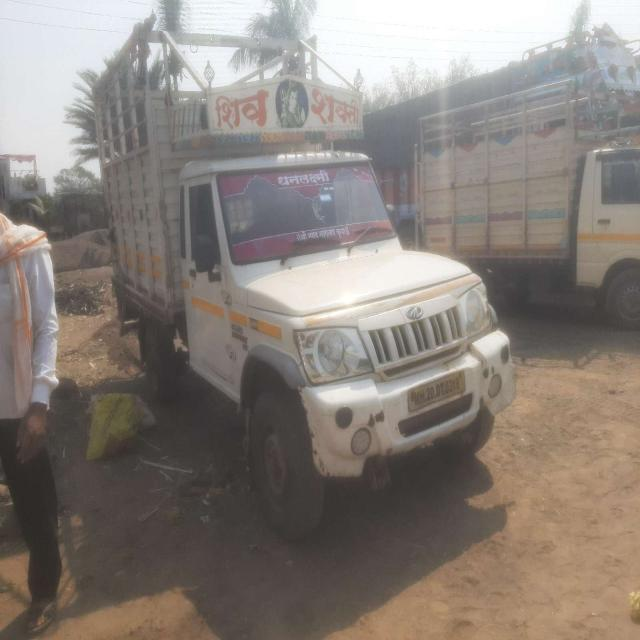light_vehicle: (106, 127, 510, 462)
